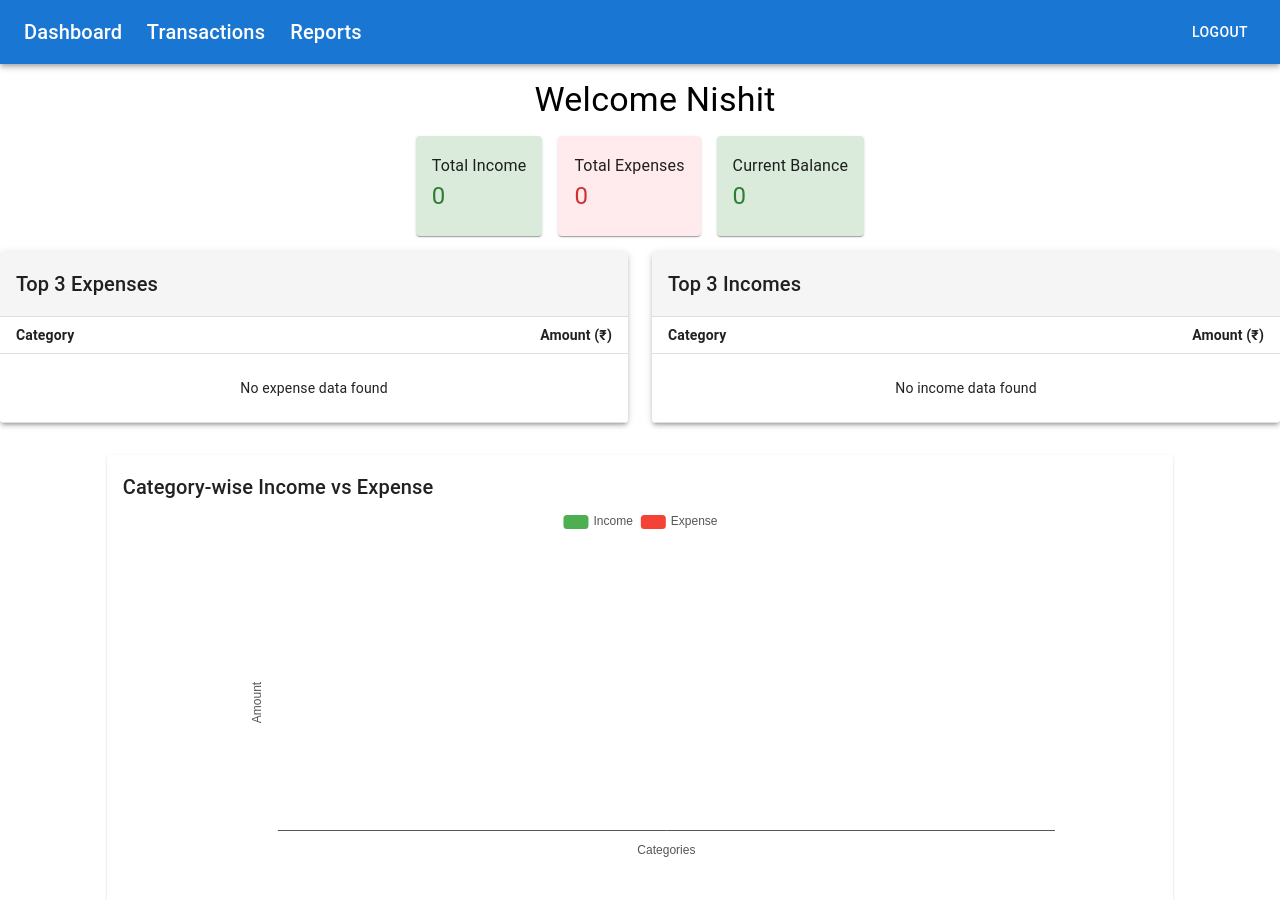
Test: logout clears user and redirects to login
Click the button "Logout". click: (1220, 32)
box: [1184, 14, 1256, 50]
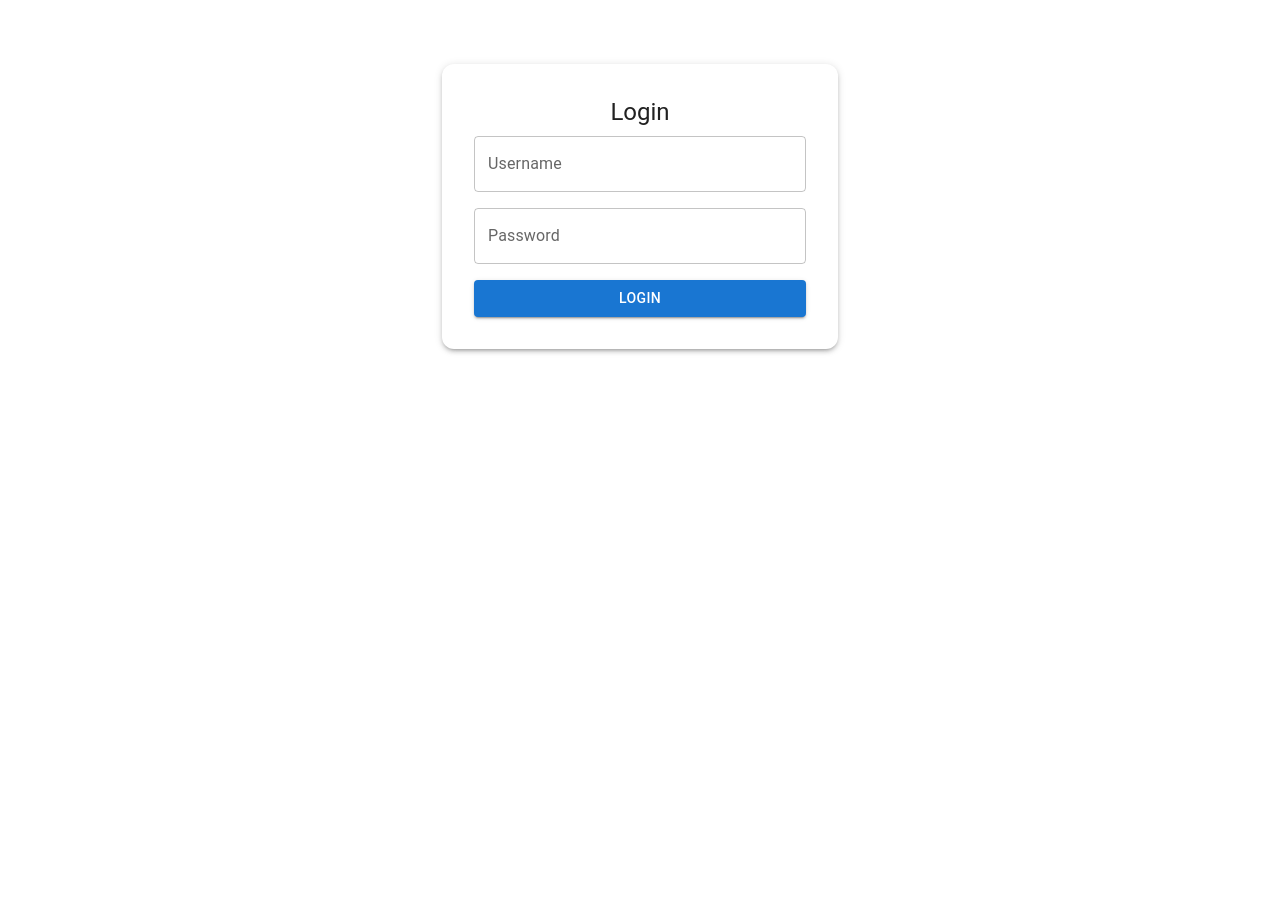
Expected: the number of headings "Login" is 2, [610, 98, 670, 126]; [474, 280, 806, 317]
